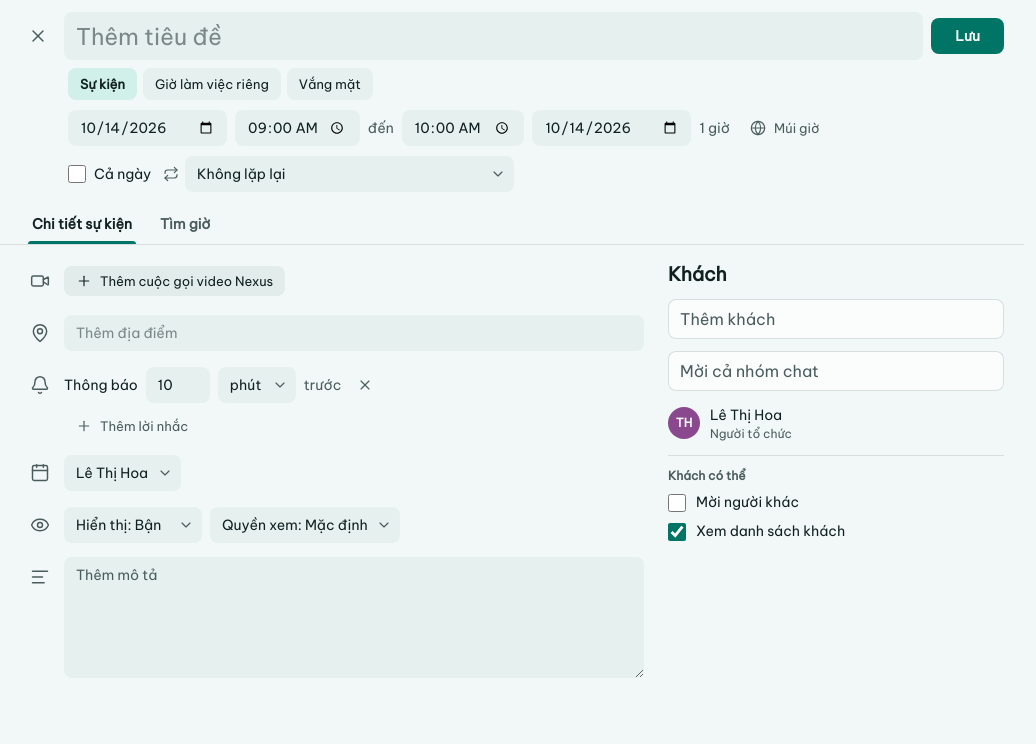
Tìm giờ › takes a guest off the grid without taking them off the event
Type "Yến" into the dropdown labelled "Thêm khách". click: (836, 319)
box: 680,305 -> 992,333
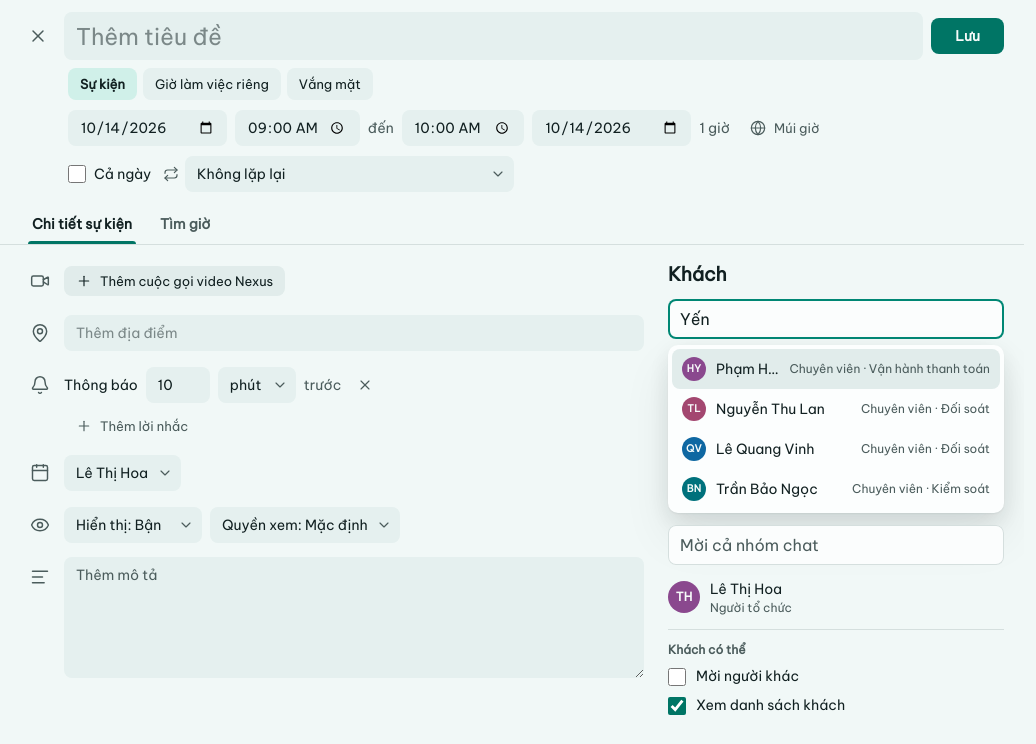
Click the option "HY Phạm Hải Yến Chuyên viên · Vận hành thanh toán". click: (836, 369)
box: 672,349 -> 1000,389
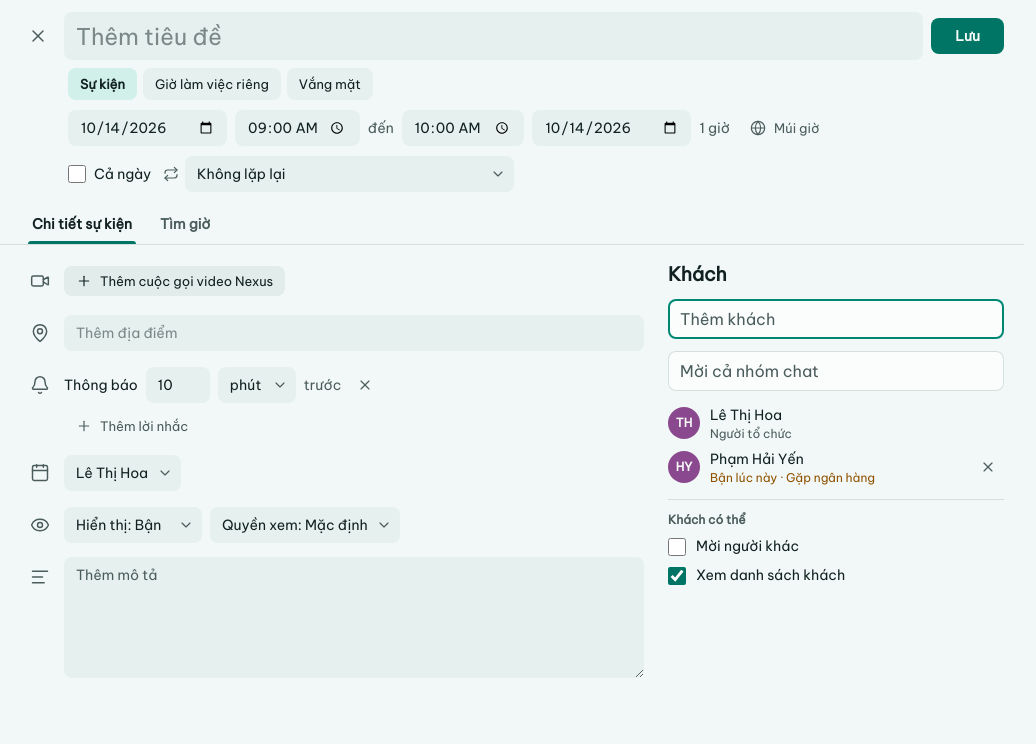
Click the tab "Tìm giờ". click: (185, 224)
box: 148,204 -> 222,244
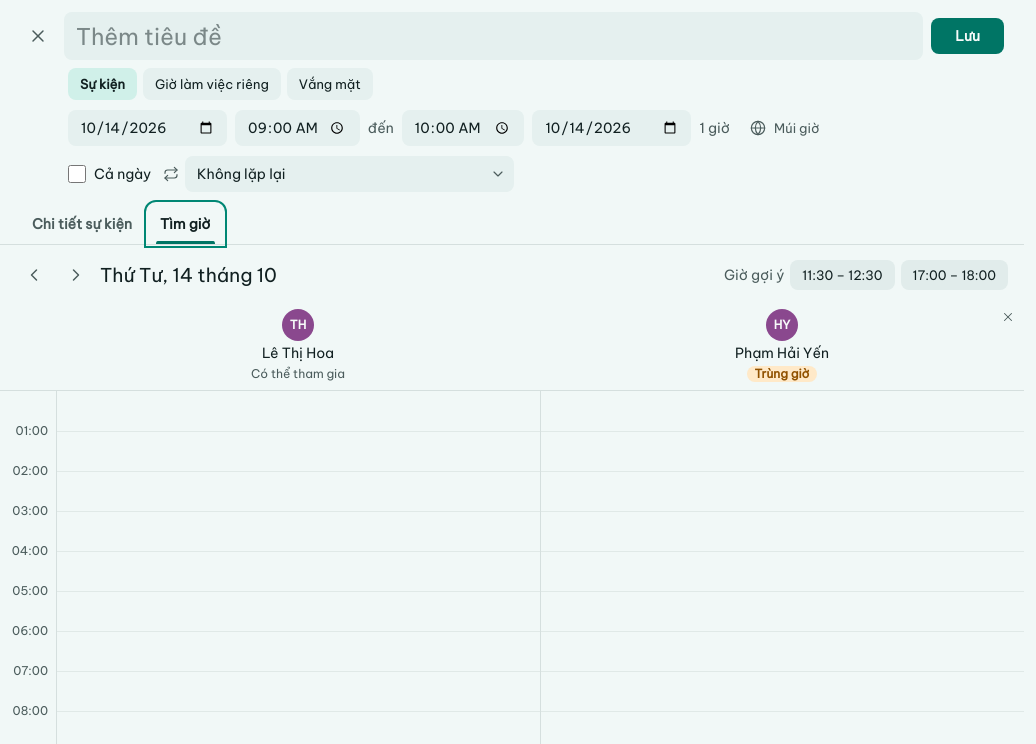
Click the button named "Ẩn Phạm Hải Yến khỏi tìm giờ". click: (1008, 317)
box: 994,303 -> 1022,331
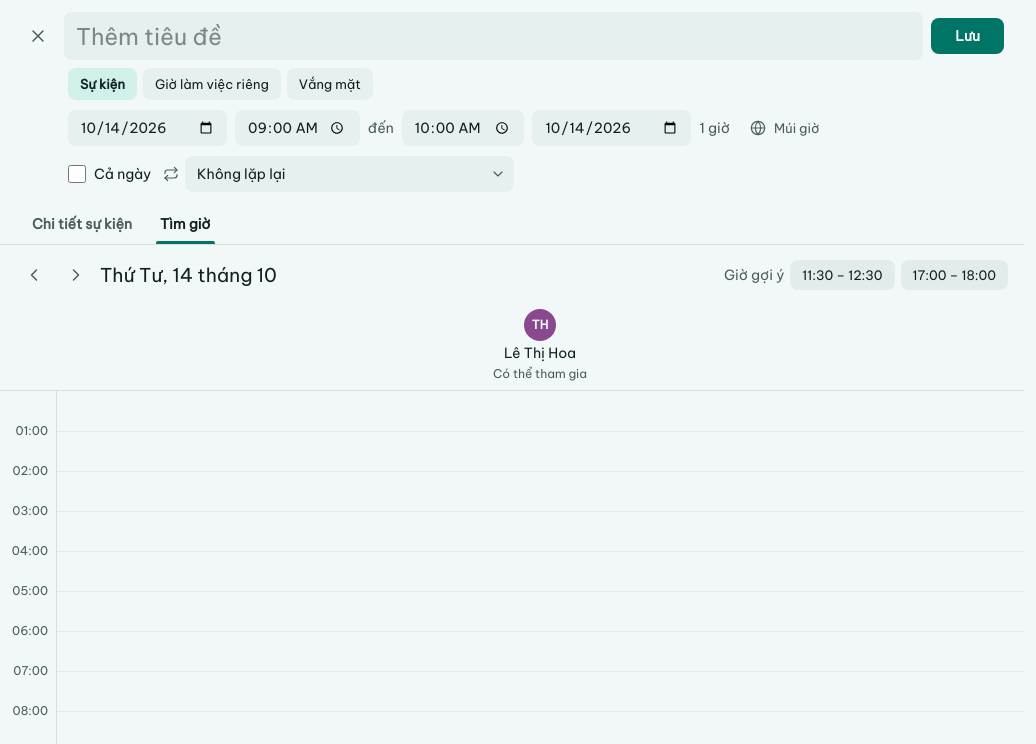
Now the text "Phạm Hải Yến" is gone
Click the tab "Chi tiết sự kiện". click: (82, 224)
box: 20,204 -> 144,244
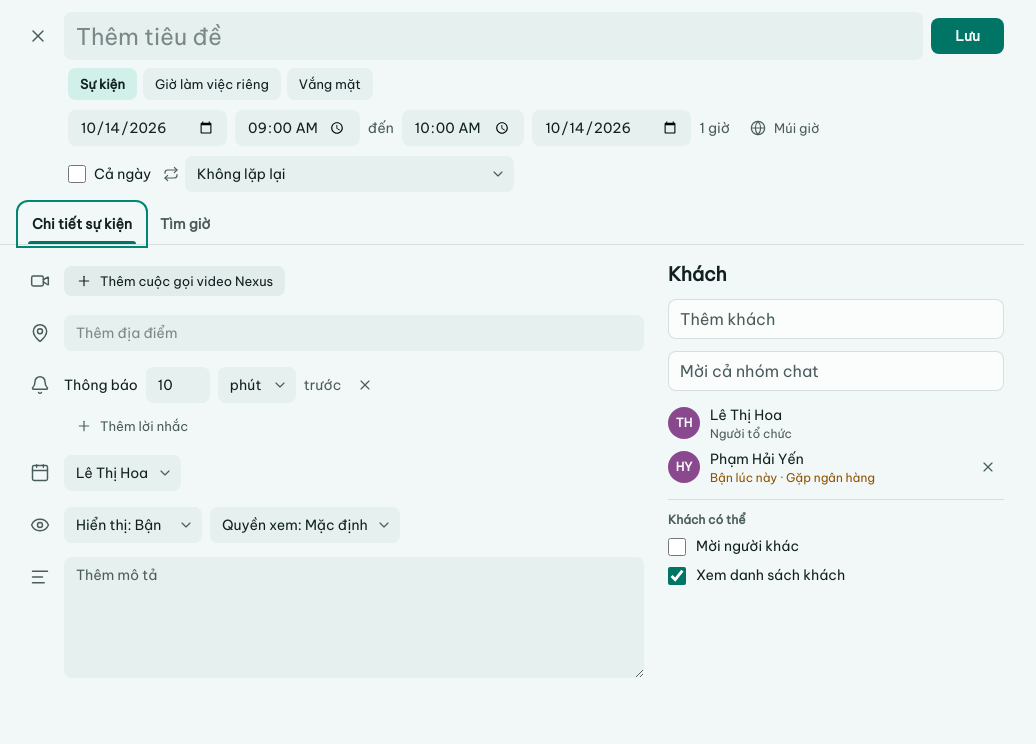
Now the button named "Bỏ Phạm Hải Yến" is shown, box 972,451 -> 1004,483
